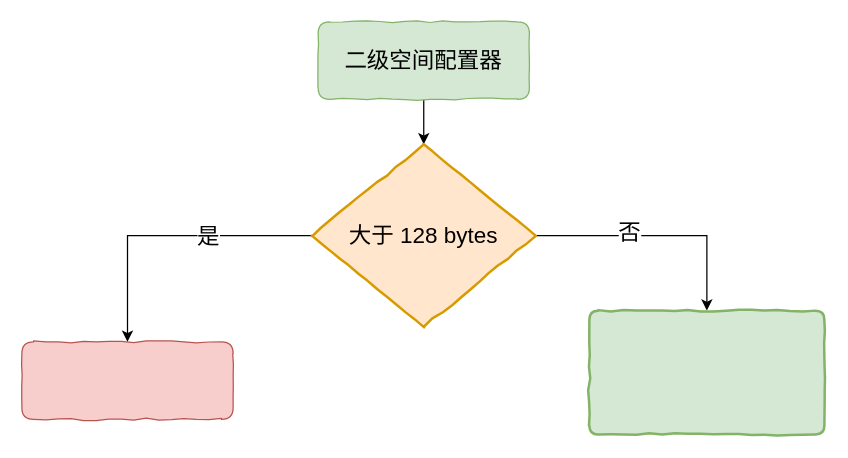
Image size: 848x458. Some labels were removed from this diagram. Here are the shapes that lost their labels. From the top down, the centre of each, then its label:
At (x=127, y=380): "一级空间配置器".
At (x=706, y=372): "在二级空间配置器 中进行内存管理 （......）".
